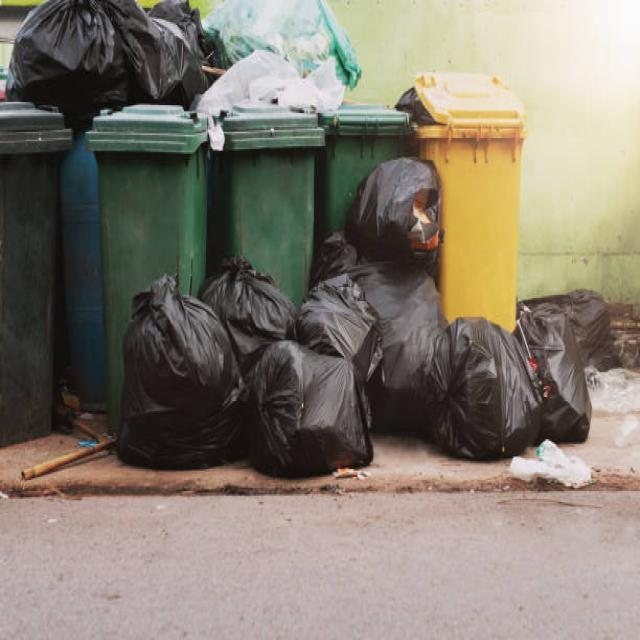garbage: (121, 270, 618, 482), (0, 0, 365, 117), (311, 155, 447, 268), (383, 75, 447, 142)
